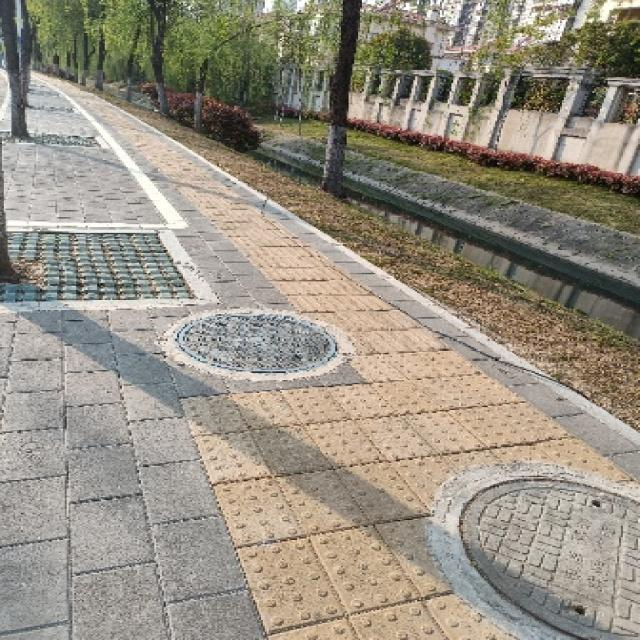Good: (435, 467, 640, 640), (150, 304, 398, 388)
